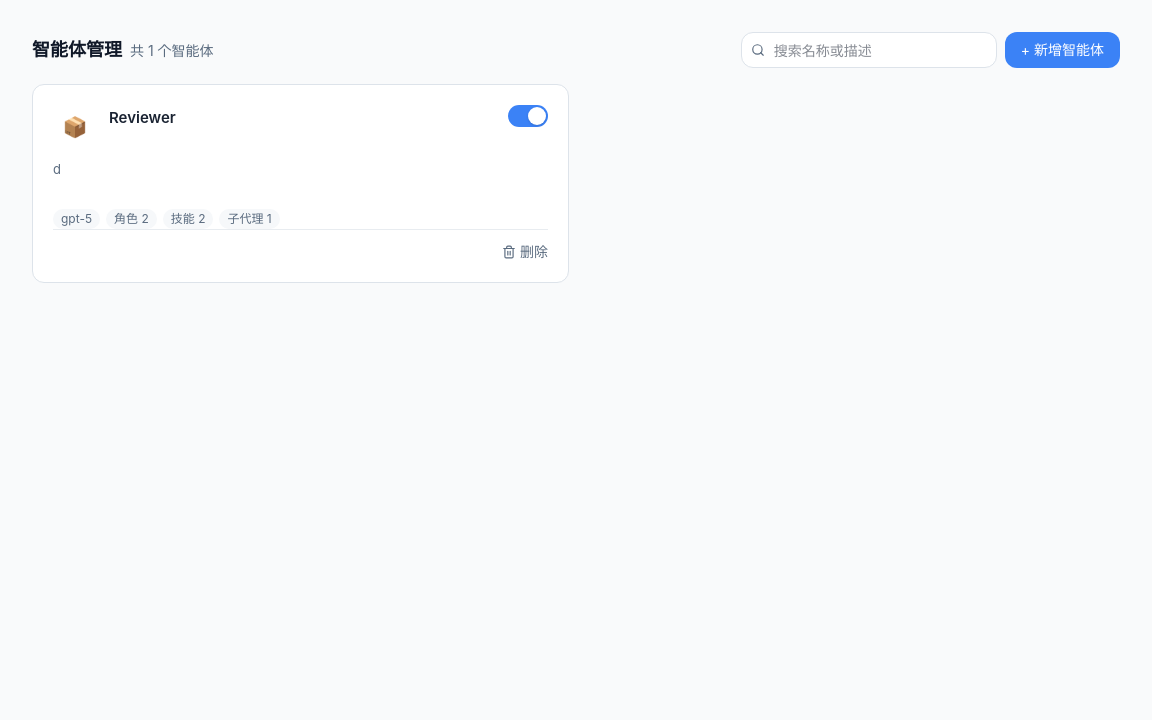
Test: AgentManagePage › closing a dirty drawer prompts to discard
Click the text "Reviewer" at x=300, y=183, box top-left (32, 84), bottom-right (569, 283)
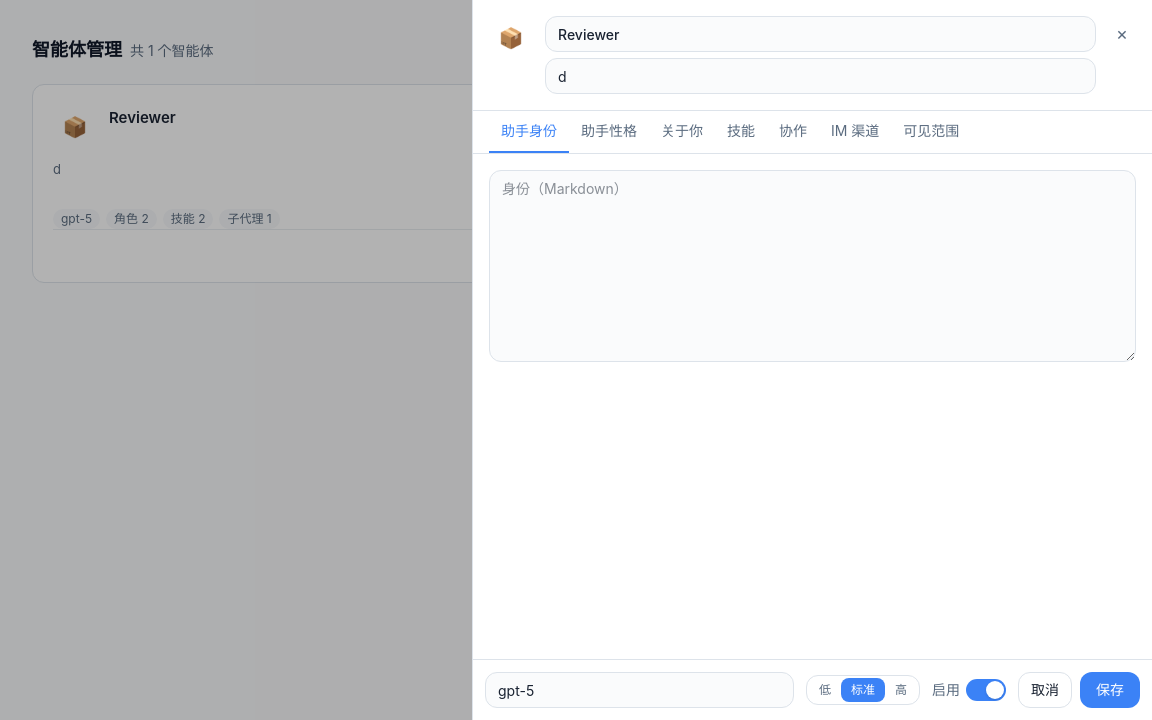
Replace the text in the field named "Agent 名称" with "Renamed" at x=821, y=34, box top-left (545, 16), bottom-right (1096, 52)
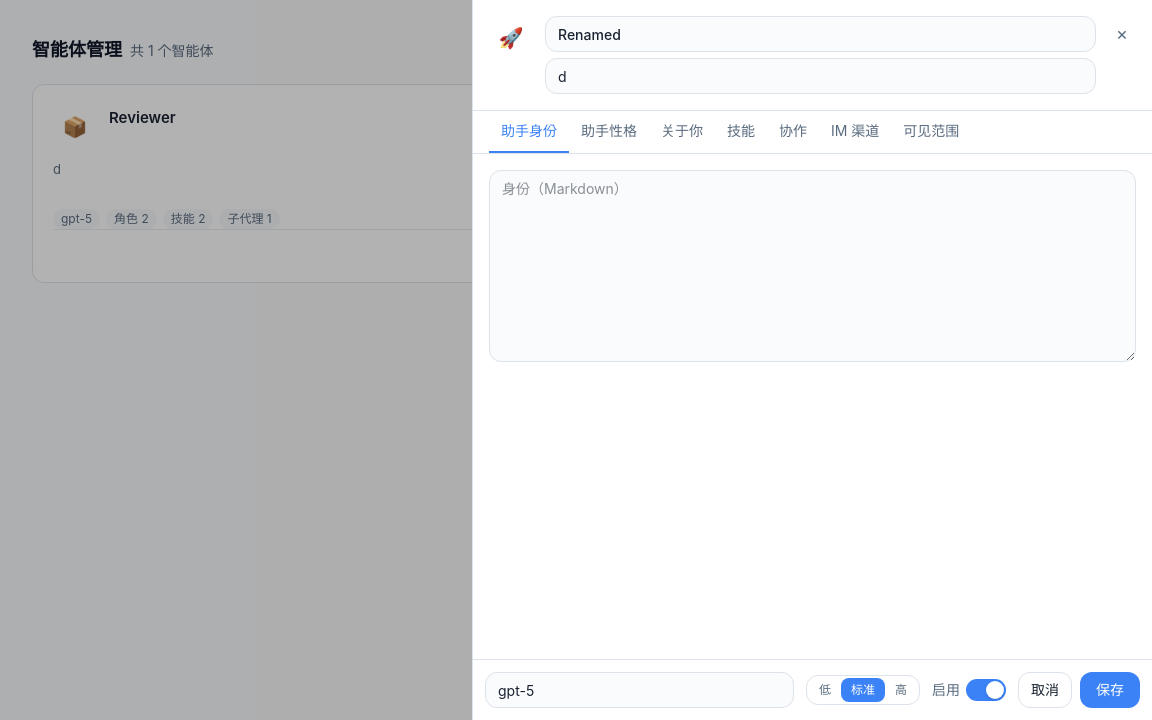
Click the button "取消" at x=1045, y=690, box top-left (1018, 672), bottom-right (1072, 708)
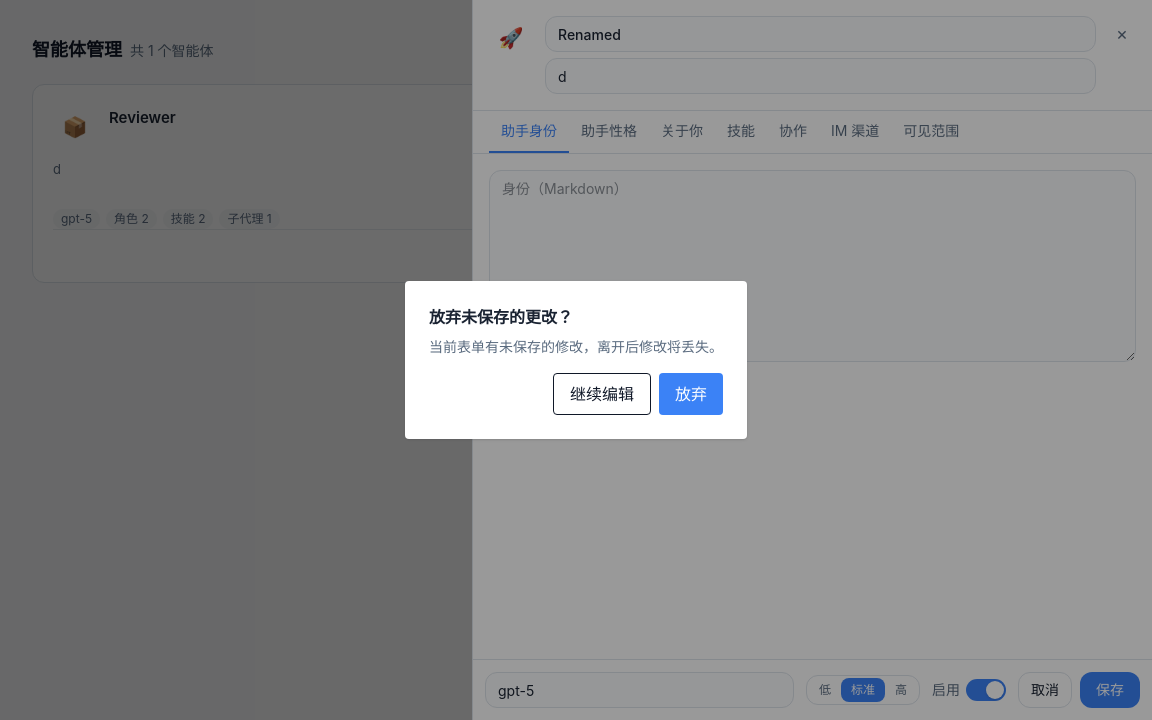
Check: the heading "放弃未保存的更改？" is shown, box top-left (429, 307), bottom-right (573, 327)
